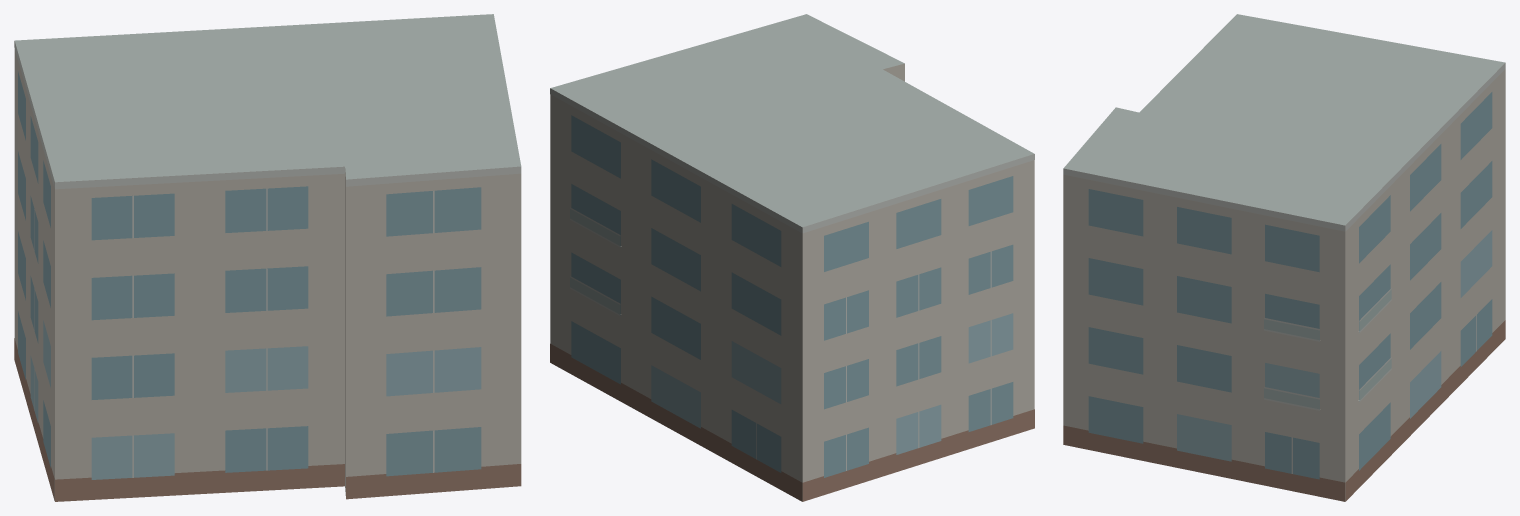
The model's file is survey-upis-32688811.glb.
3 views of the same model, side by side, from view 1: azimuth 30°, elevation 25°; view 2: azimuth 150°, elevation 25°; view 3: azimuth 270°, elevation 25° (orthographic). The views are drawn at different scales.
Visible parts, largest first — view 1: survey-upis-32688811.tmp; view 2: survey-upis-32688811.tmp; view 3: survey-upis-32688811.tmp.
Part boxes in pixels (x1,y1,x2,y2): survey-upis-32688811.tmp: (14, 14, 521, 501); survey-upis-32688811.tmp: (550, 14, 1034, 501); survey-upis-32688811.tmp: (1063, 14, 1505, 501).
Bounding box in the file's own units: 18.06 × 10.99 × 15.95.
